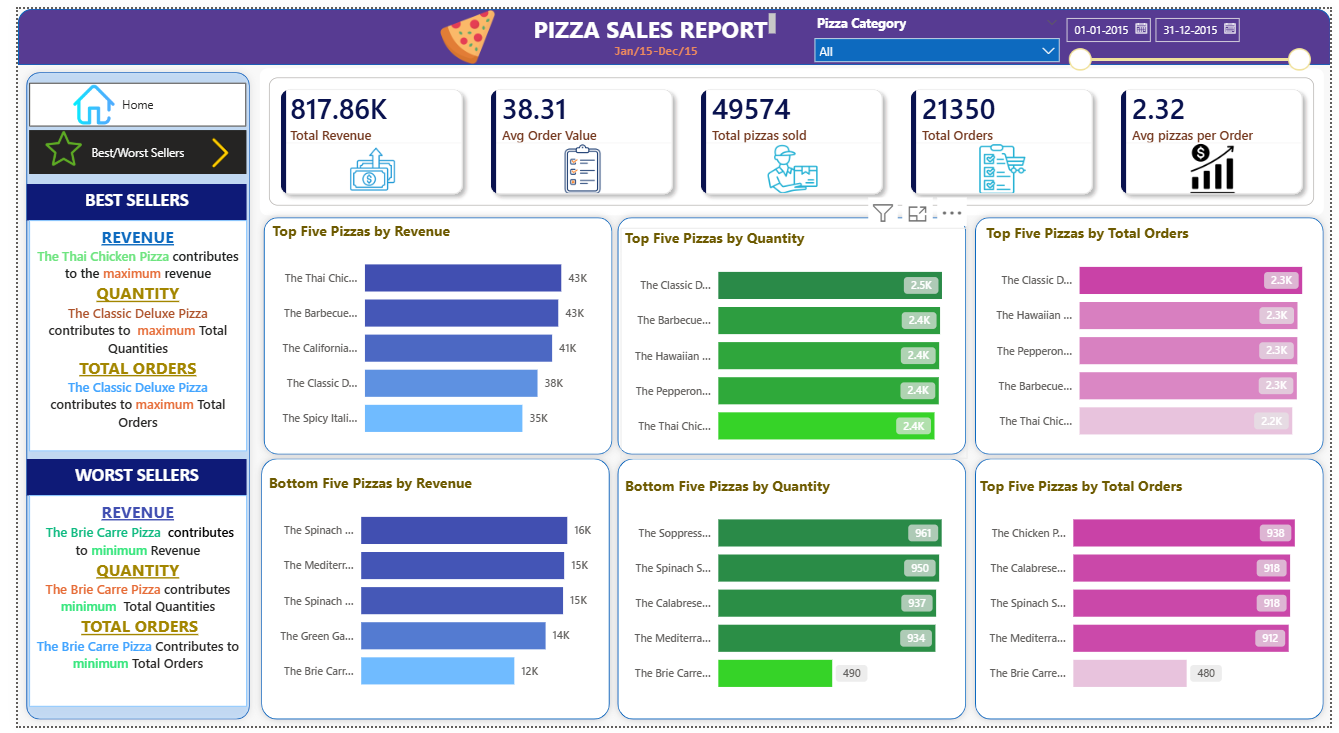

This screenshot's page, from the dashboard's own definition file:
{"tool":"powerbi","page":{"name":"Best/Worst Sellers","canvas":[1500,820],"ordinal":1},"visuals":[{"type":"cardVisual","fields":{"Data":["pizza_sales.Total Revenue","pizza_sales.Avg Order Value","pizza_sales.Total pizzas sold","pizza_sales.Total Orders","pizza_sales.Avg pizzas per Order"]},"box":[270,61.4,1228.6,180],"z":0},{"type":"shape","box":[0,0,1500,64.3],"z":1000},{"type":"textbox","box":[584.9,0,286.3,38.4],"z":2000},{"type":"textbox","box":[665.8,32.9,126,28.8],"z":3000},{"type":"image","box":[454.8,0,119.2,64.4],"z":4000},{"type":"shape","box":[272.9,230,414.3,287.1],"z":5000},{"type":"shape","box":[1.4,64.3,271.4,755.7],"z":6000},{"type":"textbox","box":[10,200,251.4,41.4],"z":7000},{"type":"textbox","box":[12.9,241.4,248.6,264.3],"z":8000},{"type":"textbox","box":[10,514.3,251.4,41.4],"z":9000},{"type":"textbox","box":[12.9,555.7,248.6,241.4],"z":10000},{"type":"slicer","fields":{"Values":["pizza_sales.pizza_category"]},"box":[900,1.4,300,61.4],"z":11000},{"type":"slicer","fields":{"Values":["pizza_sales.order_date"]},"box":[1185.7,0,300,84.3],"z":12000},{"type":"shape","box":[677.1,230,414.3,287.1],"z":13000},{"type":"shape","box":[1085.7,230,414.3,287.1],"z":14000},{"type":"shape","box":[270,505.7,414.3,314.3],"z":15000},{"type":"shape","box":[677.1,505.7,414.3,314.3],"z":16000},{"type":"shape","box":[1085.7,505.7,414.3,314.3],"z":17000},{"type":"barChart","title":"Top Five Pizzas by Revenue","fields":{"Category":["pizza_sales.pizza_name"],"Y":["pizza_sales.Total Revenue"]},"box":[285.7,241.4,391.4,264.3],"z":18000},{"type":"barChart","title":"Bottom Five Pizzas by Revenue","fields":{"Category":["pizza_sales.pizza_name"],"Y":["pizza_sales.Total Revenue"]},"box":[281.4,530,391.4,264.3],"z":19000},{"type":"barChart","title":"Top Five Pizzas by Quantity","fields":{"Category":["pizza_sales.pizza_name"],"Y":["pizza_sales.Total pizzas sold"]},"box":[688.6,250,397.1,264.3],"z":20000},{"type":"barChart","title":"Bottom Five Pizzas by Quantity","fields":{"Category":["pizza_sales.pizza_name"],"Y":["pizza_sales.Total pizzas sold"]},"box":[688.6,532.9,397.1,264.3],"z":21000},{"type":"barChart","title":"Top Five Pizzas by Total Orders  ","fields":{"Category":["pizza_sales.pizza_name"],"Y":["pizza_sales.Total Orders"]},"box":[1102,244.3,397.1,264.3],"z":21001},{"type":"barChart","title":"Top Five Pizzas by Total Orders  ","fields":{"Category":["pizza_sales.pizza_name"],"Y":["pizza_sales.Total Orders"]},"box":[1094.3,532.9,397.1,264.3],"z":21002},{"type":"pageNavigator","box":[12.9,138.6,248.6,50],"z":21003},{"type":"pageNavigator","box":[12.9,84.3,248.6,50],"z":21004},{"type":"image","box":[190,147.1,82.9,34.3],"z":21005},{"type":"image","box":[60,85.7,54.3,47.1],"z":21006},{"type":"image","box":[31.4,118.6,41.4,81.4],"z":21007}]}

Visuals, with their boxes in screenshot pixels (x1, y1, x2, y2), scaled from the page's 1500x820 canvas onto the 1339x733 screenshot:
cardVisual - pizza_sales.Total Revenue x pizza_sales.Avg Order Value: x1=241, y1=55, x2=1338, y2=216
shape: x1=0, y1=0, x2=1338, y2=57
textbox: x1=522, y1=0, x2=778, y2=34
textbox: x1=594, y1=29, x2=707, y2=55
image: x1=406, y1=0, x2=512, y2=58
shape: x1=244, y1=206, x2=613, y2=462
shape: x1=1, y1=57, x2=244, y2=732
textbox: x1=9, y1=179, x2=233, y2=216
textbox: x1=12, y1=216, x2=233, y2=452
textbox: x1=9, y1=460, x2=233, y2=497
textbox: x1=12, y1=497, x2=233, y2=713
slicer - pizza_sales.pizza_category: x1=803, y1=1, x2=1071, y2=56
slicer - pizza_sales.order_date: x1=1058, y1=0, x2=1326, y2=75
shape: x1=604, y1=206, x2=974, y2=462
shape: x1=969, y1=206, x2=1338, y2=462
shape: x1=241, y1=452, x2=611, y2=732
shape: x1=604, y1=452, x2=974, y2=732
shape: x1=969, y1=452, x2=1338, y2=732
"Top Five Pizzas by Revenue" barChart: x1=255, y1=216, x2=604, y2=452
"Bottom Five Pizzas by Revenue" barChart: x1=251, y1=474, x2=601, y2=710
"Top Five Pizzas by Quantity" barChart: x1=615, y1=223, x2=969, y2=460
"Bottom Five Pizzas by Quantity" barChart: x1=615, y1=476, x2=969, y2=713
"Top Five Pizzas by Total Orders  " barChart: x1=984, y1=218, x2=1338, y2=455
"Top Five Pizzas by Total Orders  " barChart: x1=977, y1=476, x2=1331, y2=713
pageNavigator: x1=12, y1=124, x2=233, y2=169
pageNavigator: x1=12, y1=75, x2=233, y2=120
image: x1=170, y1=131, x2=244, y2=162
image: x1=54, y1=77, x2=102, y2=119
image: x1=28, y1=106, x2=65, y2=179
